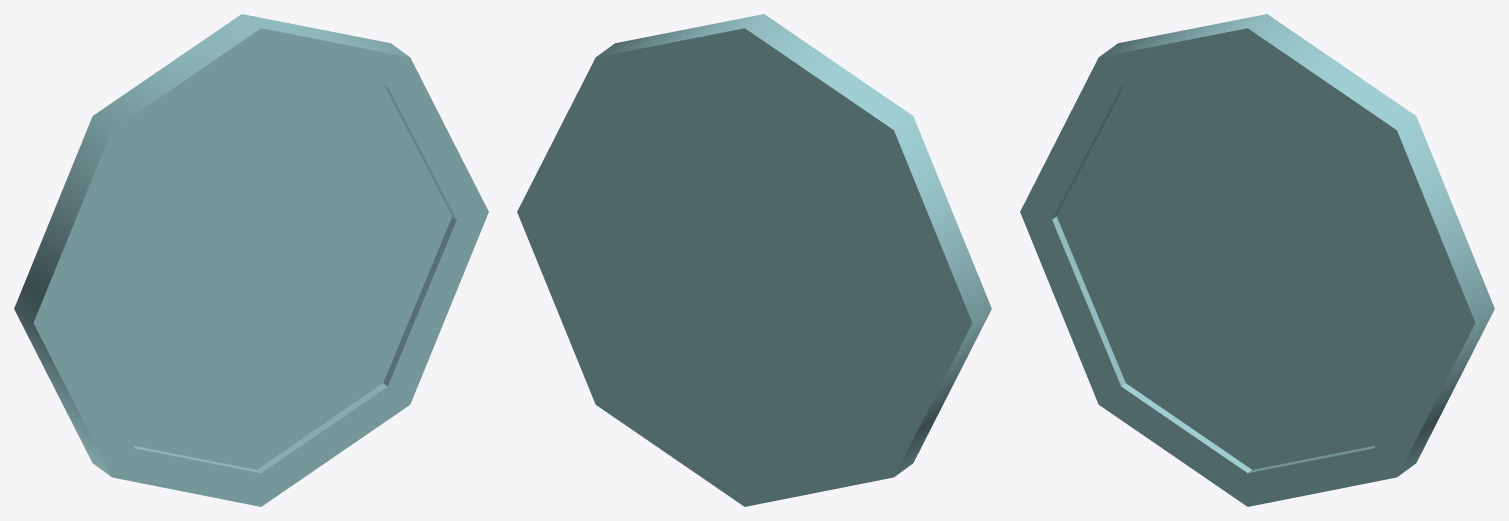
The model's file is Itr_Obj_Frame4_06.FBX.
The picture shows the model from 3 angles, left to right: view 1: azimuth 30°, elevation 25°; view 2: azimuth 150°, elevation 25°; view 3: azimuth 330°, elevation 25°; orthographic projection.
Visible parts, largest first — view 1: Itr_Obj_Frame4_06; view 2: Itr_Obj_Frame4_06; view 3: Itr_Obj_Frame4_06.
Part boxes in pixels (x1,y1,x2,y2): Itr_Obj_Frame4_06: (14,14,488,506); Itr_Obj_Frame4_06: (517,14,991,506); Itr_Obj_Frame4_06: (1020,14,1494,506).
Bounding box in the file's own units: 31.46 × 31.6 × 2.32.
